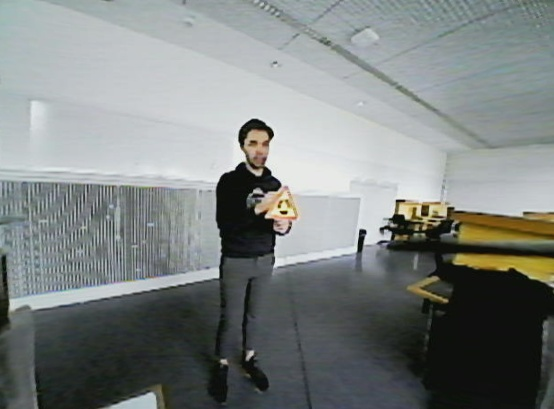roundabout_warning: (259, 182, 305, 223)
